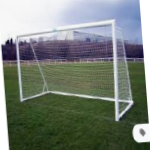goals: (14, 18, 133, 121)
